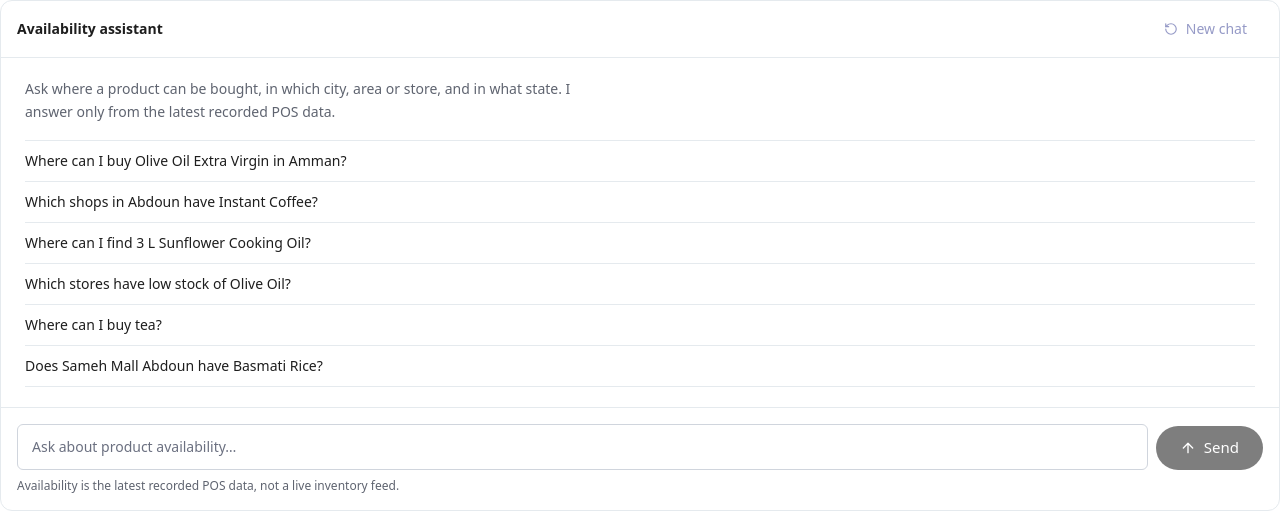
ChatPanel streaming (English) › explains a failure in plain words and retries the same question without repeating it
Type "Tahini in Irbid?" into the text box named "Your question" at point(582, 446), box [17,424,1148,470]
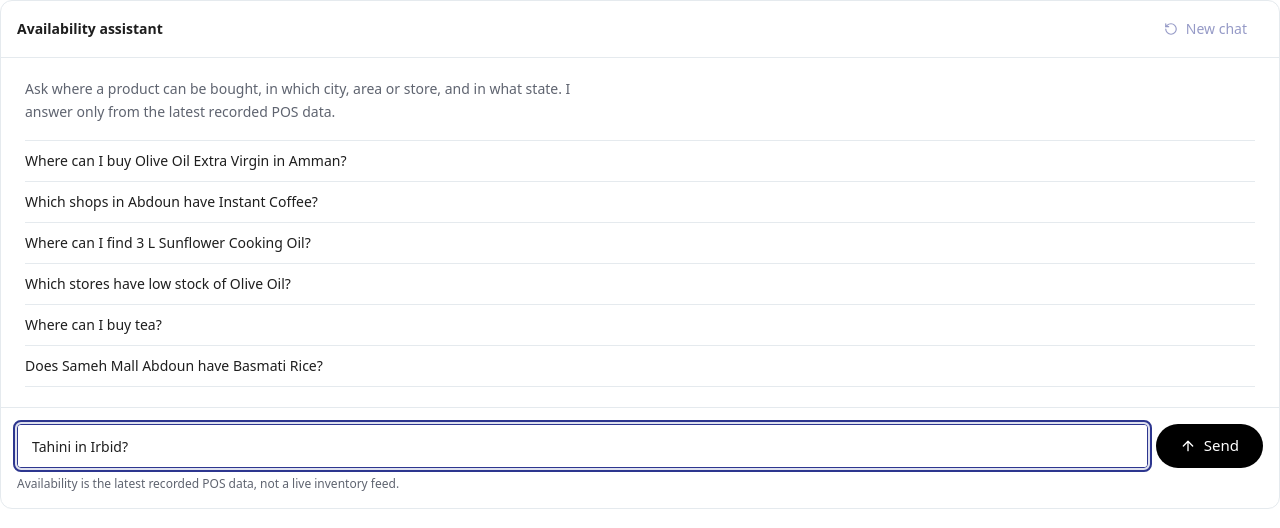
Press Enter
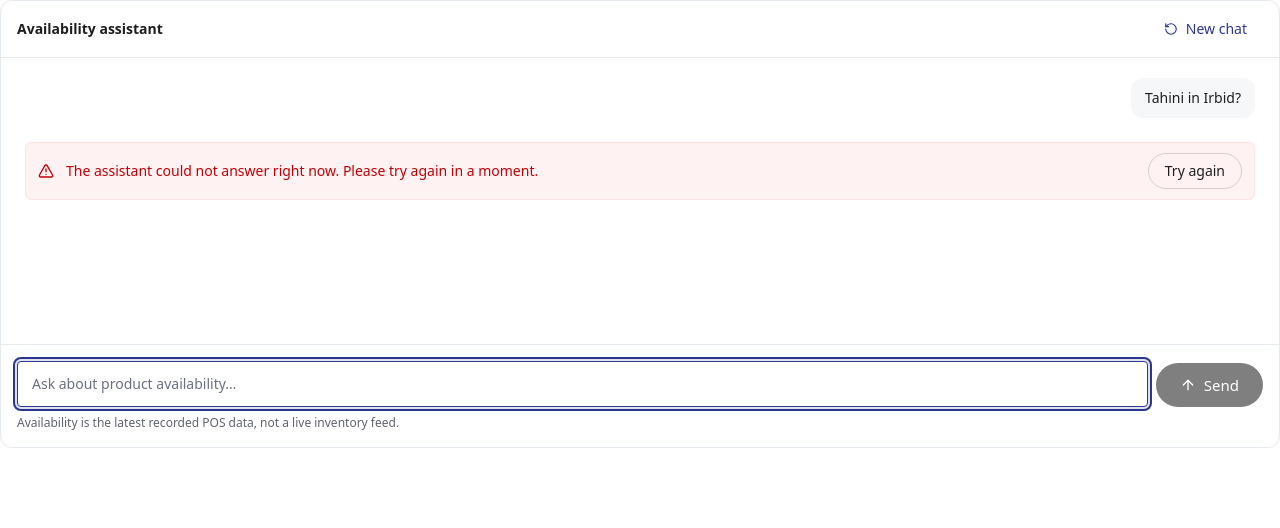
Check: the text "The assistant could not answer right now. Please try again in a moment." is shown, box [66,161,538,180]
Click the button "Try again" at point(1195, 171), box [1148,153,1242,189]
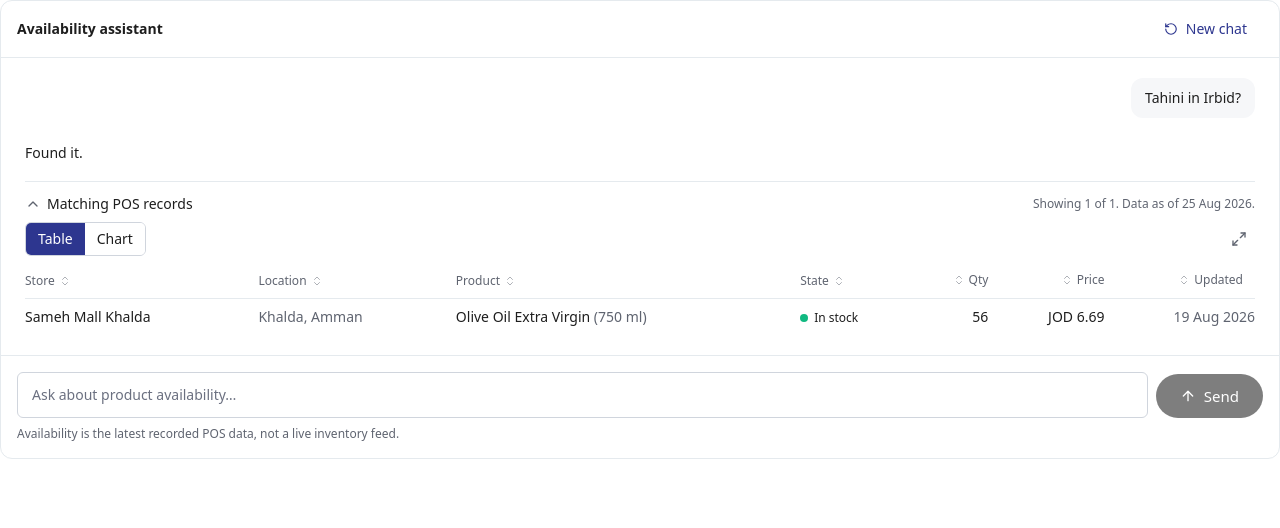
Check: the text "Tahini in Irbid?" is shown once, box [1131,78,1255,118]
Check: the text "Found it." is shown, box [25,143,83,162]
